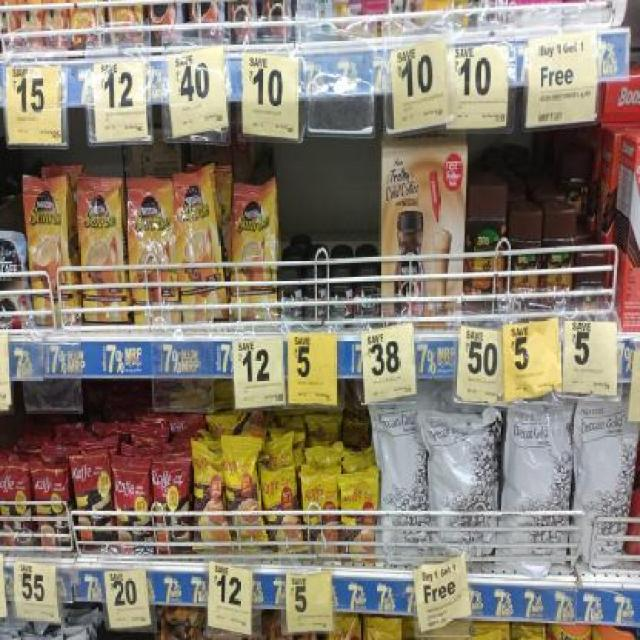Coffee: (128, 179, 177, 324), (175, 176, 222, 319), (79, 178, 123, 324), (29, 177, 71, 326), (233, 191, 274, 323), (277, 262, 303, 318), (305, 267, 330, 324), (331, 265, 355, 324), (356, 265, 379, 324)
